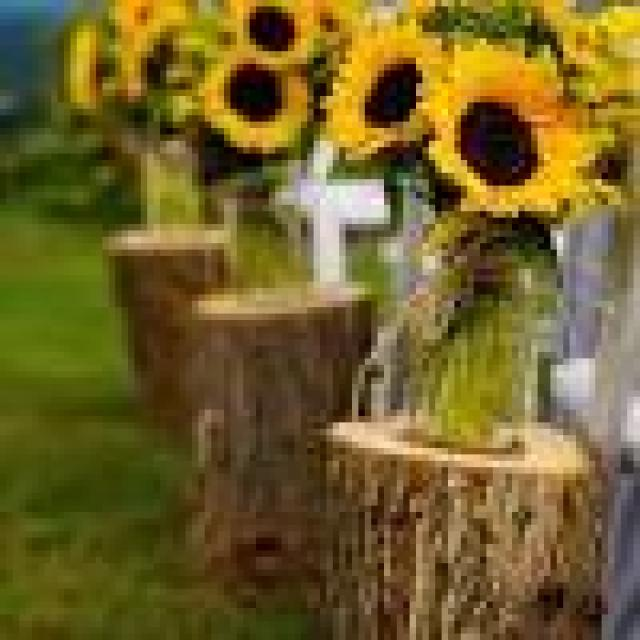sunflower: (416, 42, 602, 234), (326, 25, 448, 154), (186, 36, 320, 150)
